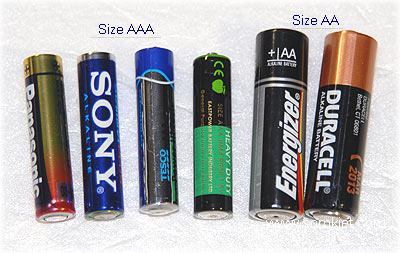Battery: (304, 29, 379, 227), (248, 27, 309, 225), (21, 52, 77, 225), (76, 50, 128, 223), (133, 46, 181, 218), (191, 50, 234, 222)
